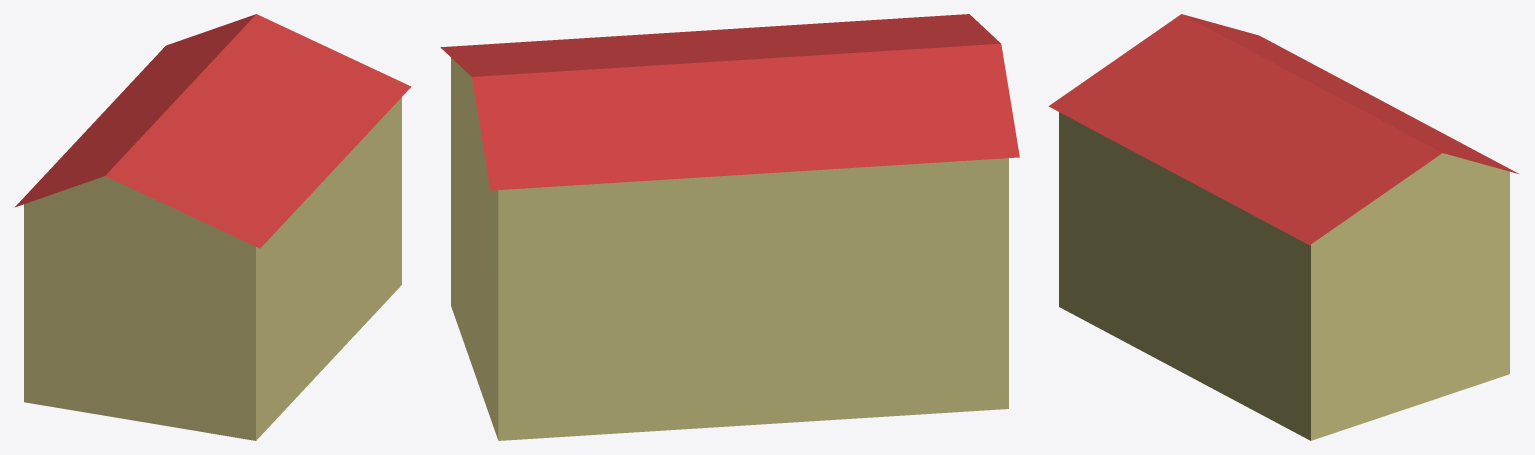
3 views of the same model, side by side, from view 1: azimuth 30°, elevation 25°; view 2: azimuth 150°, elevation 25°; view 3: azimuth 270°, elevation 25° (orthographic). The views are drawn at different scales.
Bounding box in the file's own units: 16.7 × 15.88 × 9.2.
